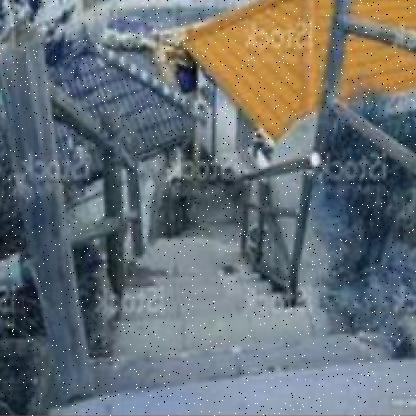stair_down: (88, 282, 353, 398)
